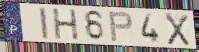4: (140, 13, 161, 44)
6: (84, 9, 105, 42)
H: (51, 8, 81, 41)
I: (38, 6, 50, 40)
P: (108, 11, 135, 43)
X: (164, 12, 191, 47)
